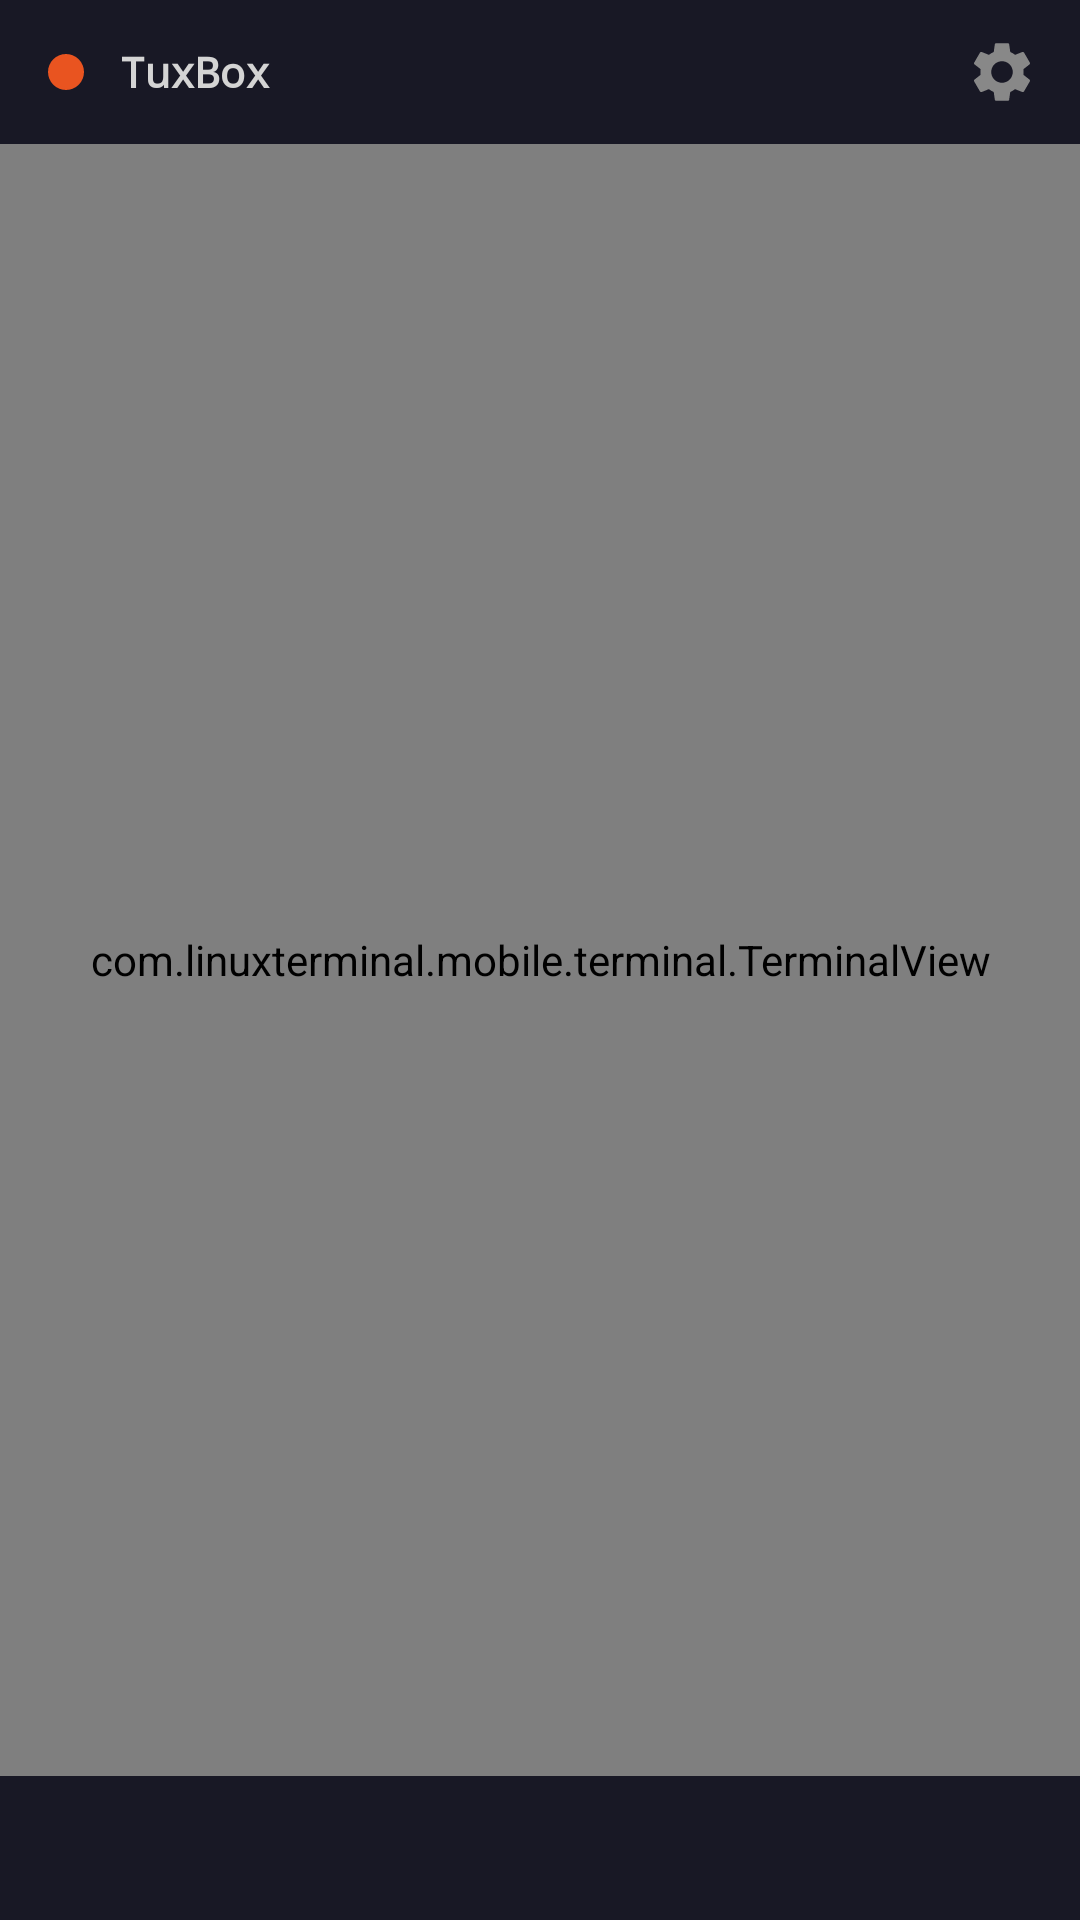

Screen size 1080*1920. Icon name, then its center in pixels as point (x, y):
Settings: point (1002, 72)
